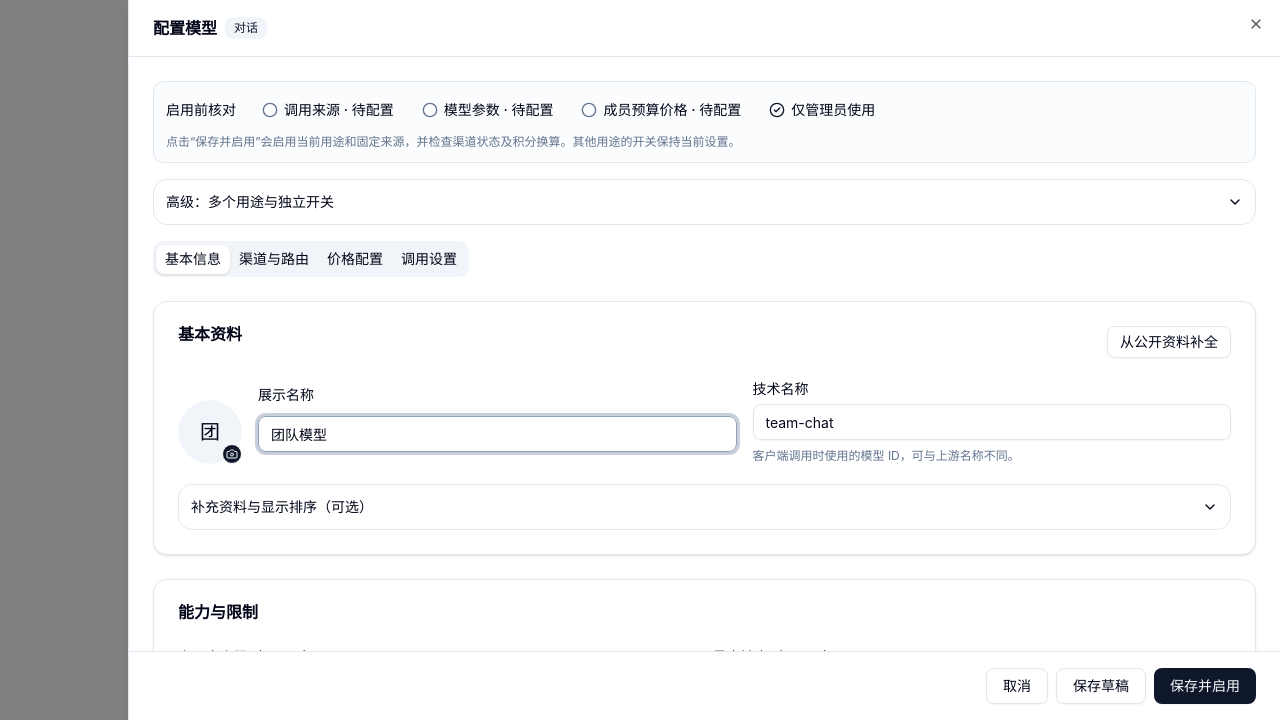
keeps a dirty draft across operation switches and asks before closing
The width and height of the screenshot is (1280, 720).
Click the tab "渠道与路由".
click(274, 259)  # box [230,244,318,274]
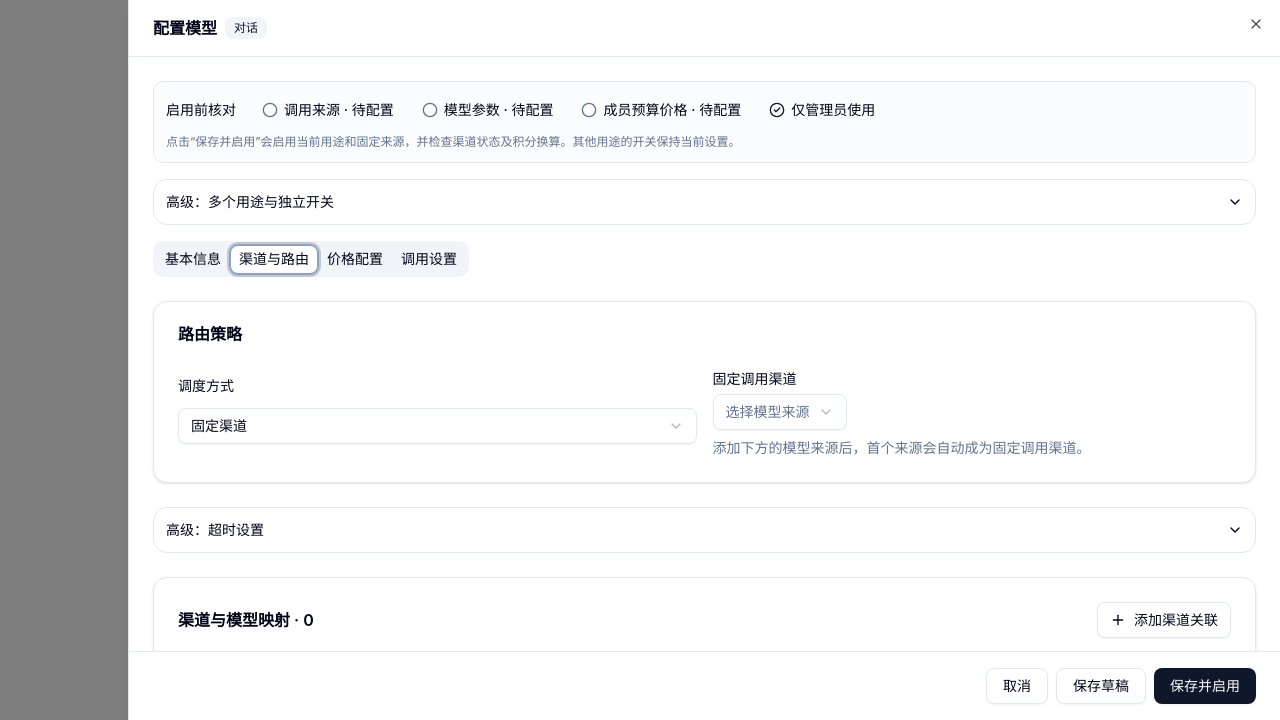
Click the button "高级：多个用途与独立开关".
click(250, 202)  # box [154,180,1255,224]
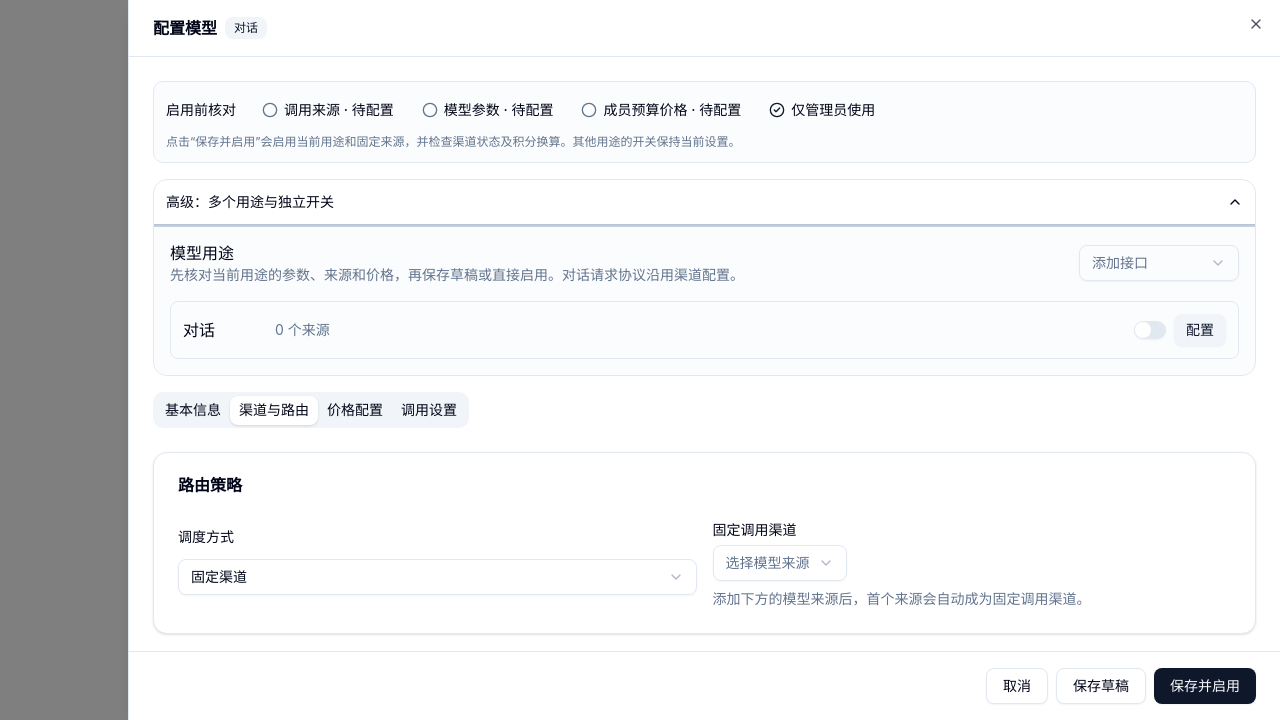
Click the dropdown labelled "添加接口".
click(1159, 263)  # box [1079,245,1239,281]
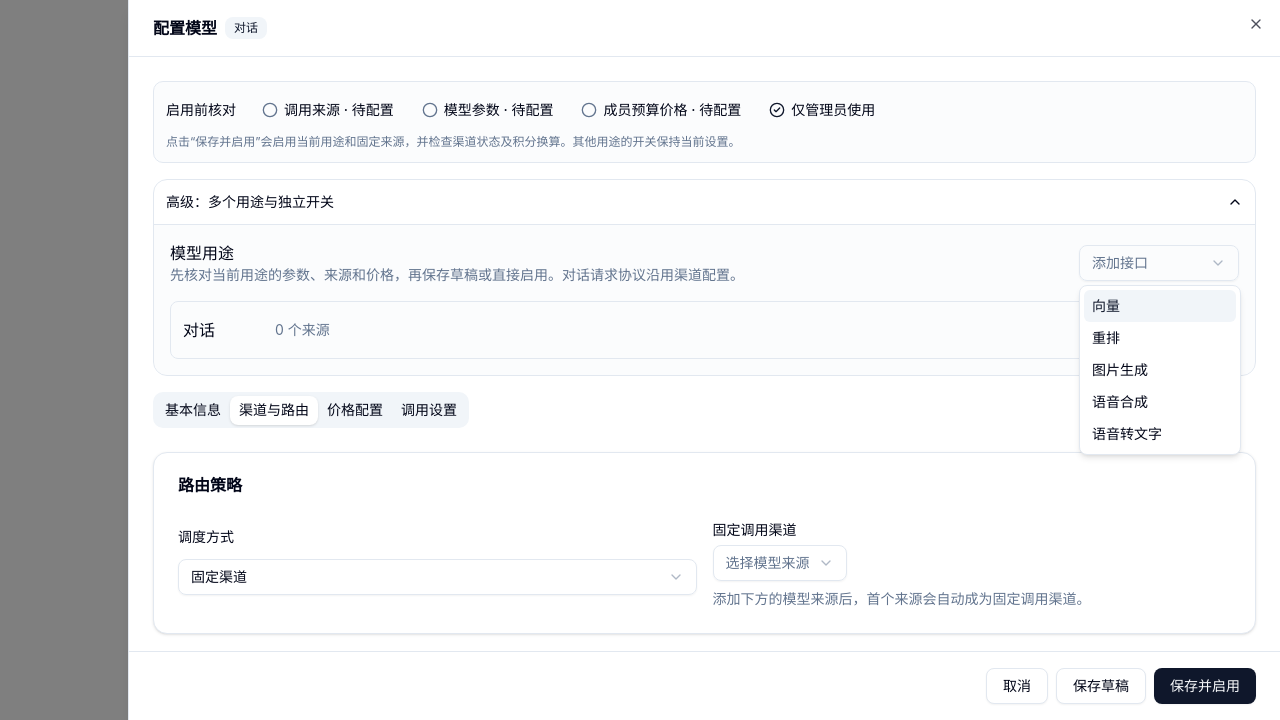
Click the option "向量".
click(1160, 306)  # box [1084,290,1236,322]
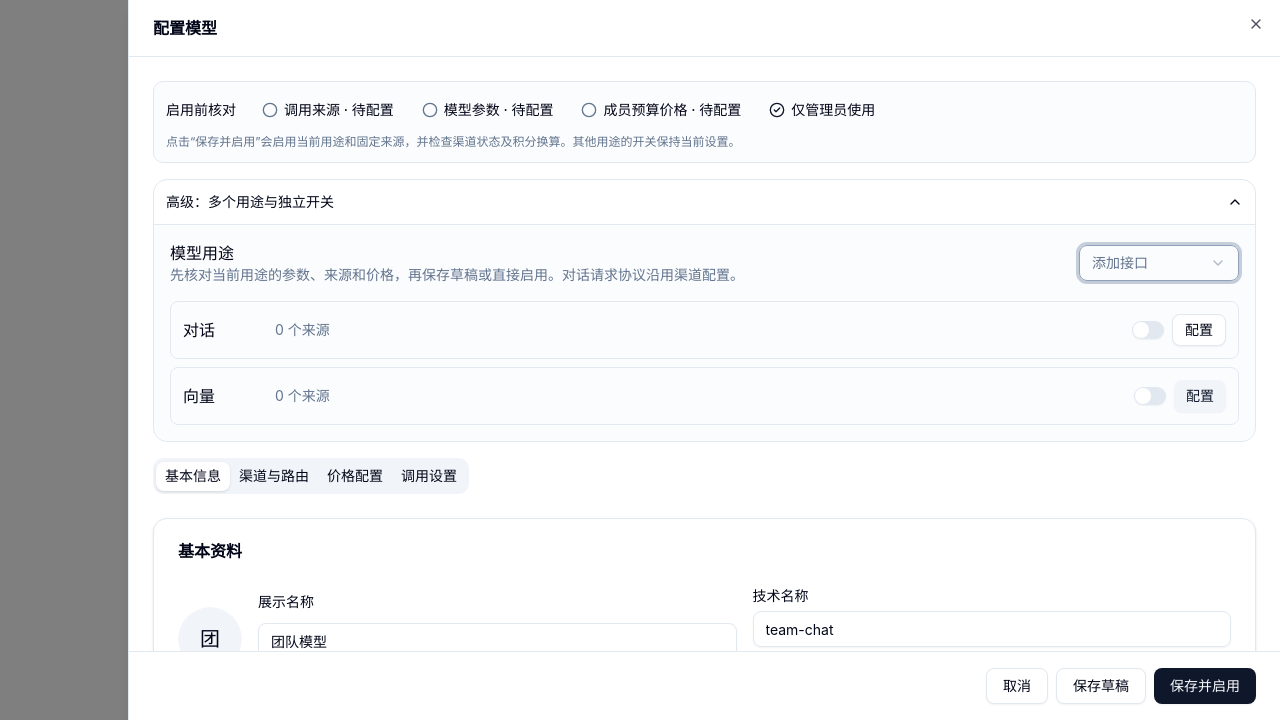
Click the 1st button "配置".
click(1199, 330)  # box [1172,314,1226,346]
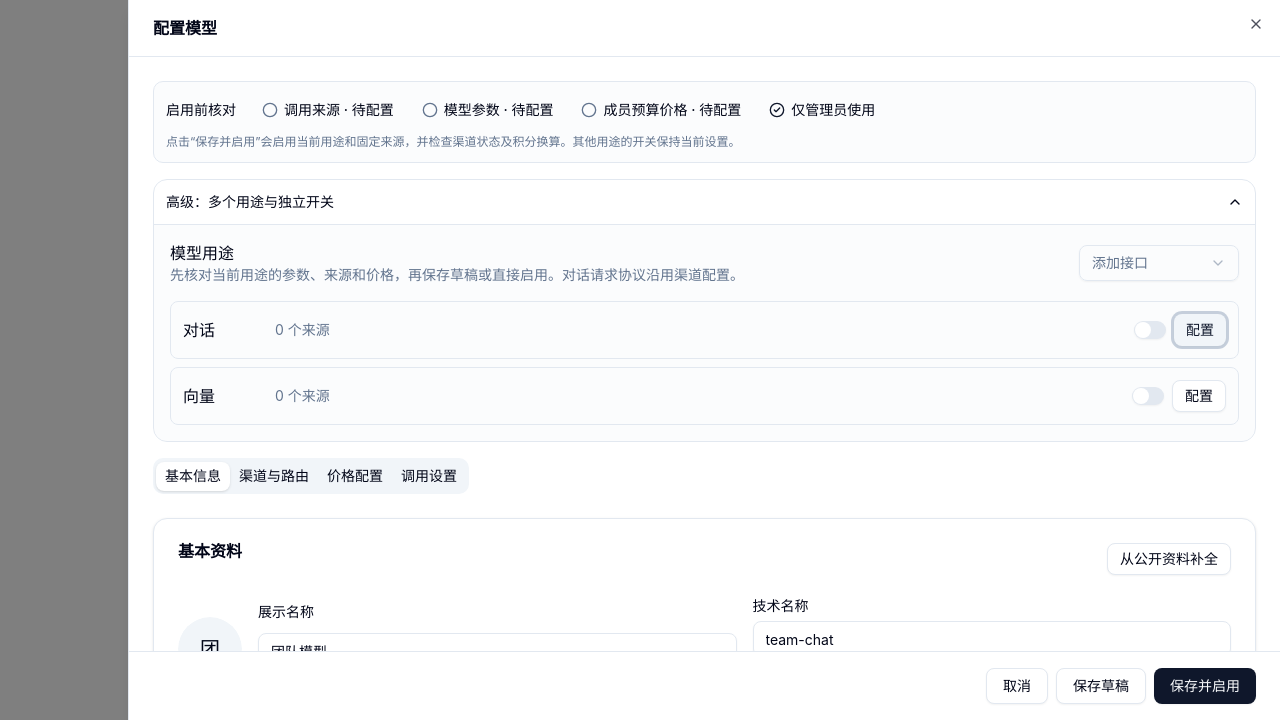
Click the button "取消".
click(1017, 686)  # box [986,668,1048,704]
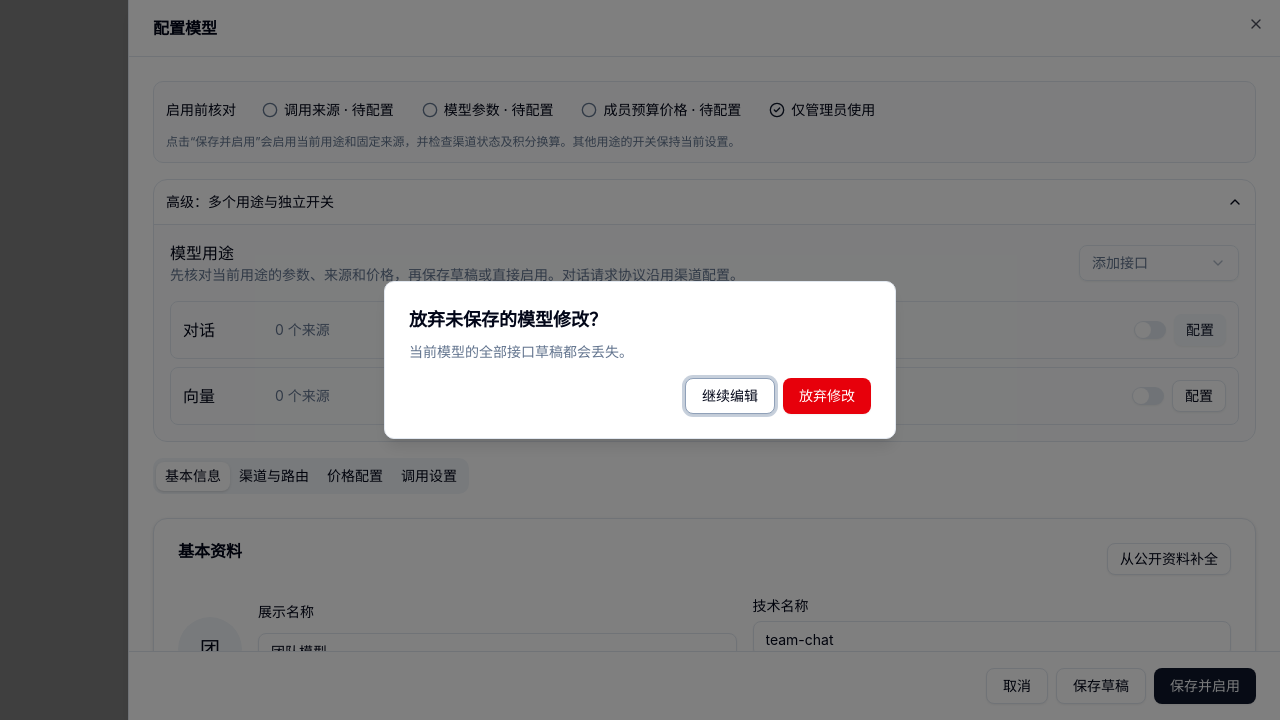
Result: the heading "放弃未保存的模型修改？" is shown at [409,309,607,330]
